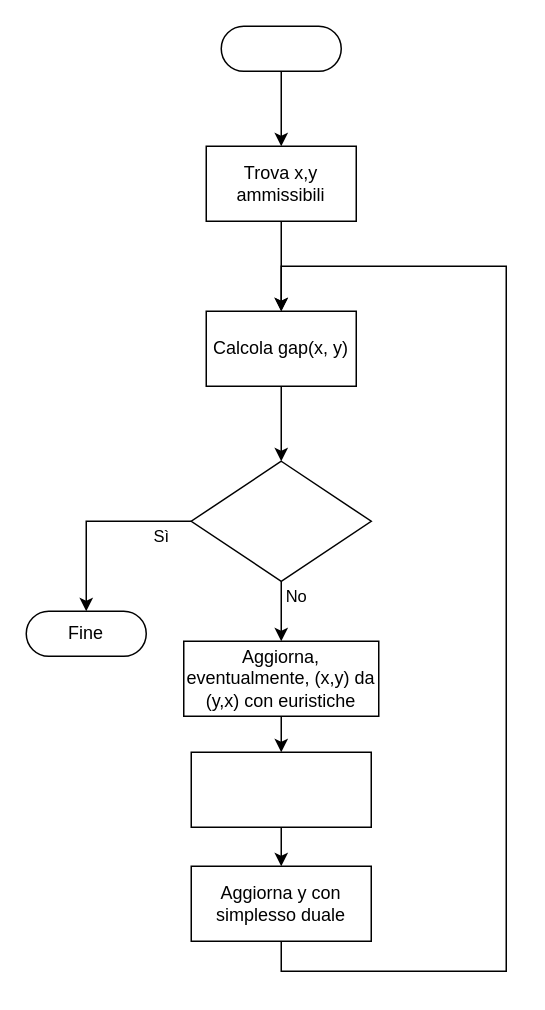
The diagram is 545 pixels wide and 1010 high, and some of its shapes have lost their labels. Here are the shapes that lost their labels. From the top down, the centre of each, then its label:
At [280,48]: "Inizio".
At [280,520]: "gap(x, y) < t".
At [280,789]: "Aggiorna x con simplesso primale".
